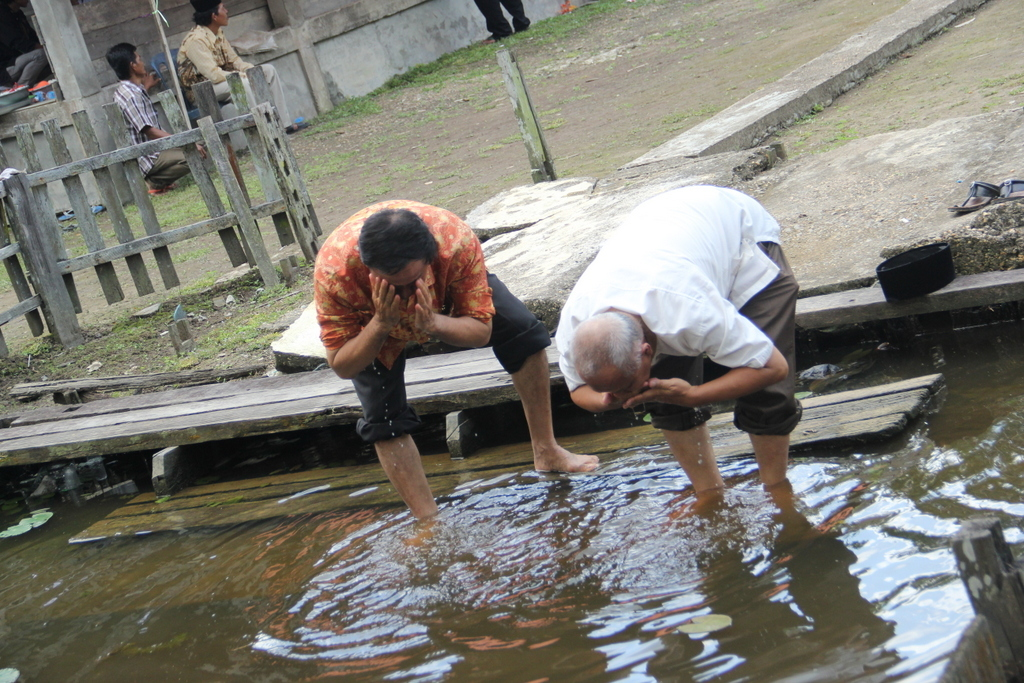Human_hand: (621, 374, 692, 410), (366, 271, 402, 327), (606, 379, 652, 411), (412, 275, 435, 337), (192, 142, 209, 165)
